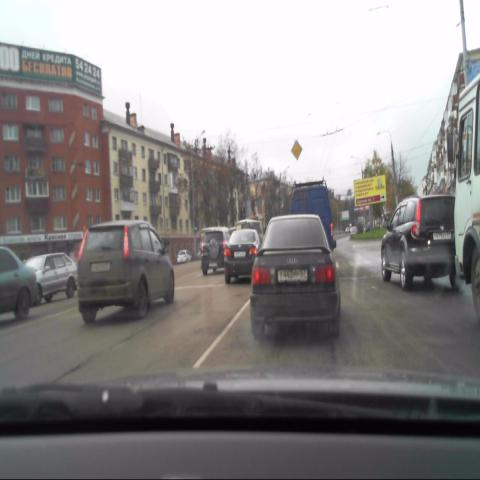2_1: (291, 138, 302, 161)
